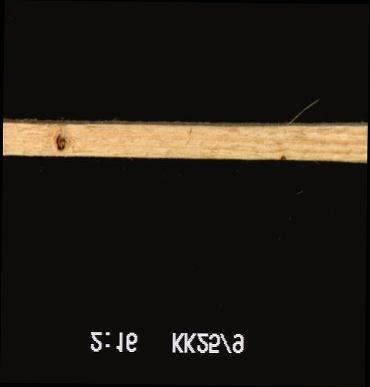dry_knot: (51, 131, 68, 153)
edge_knot: (275, 151, 291, 160)
